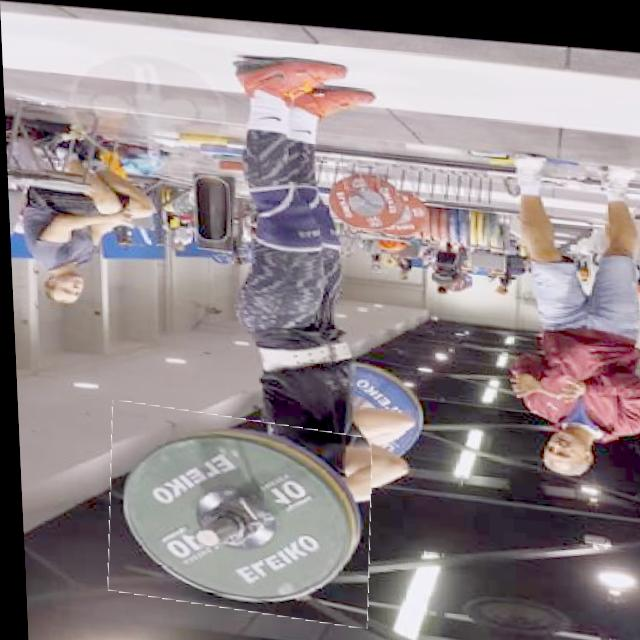barbell: (100, 402, 372, 620)
